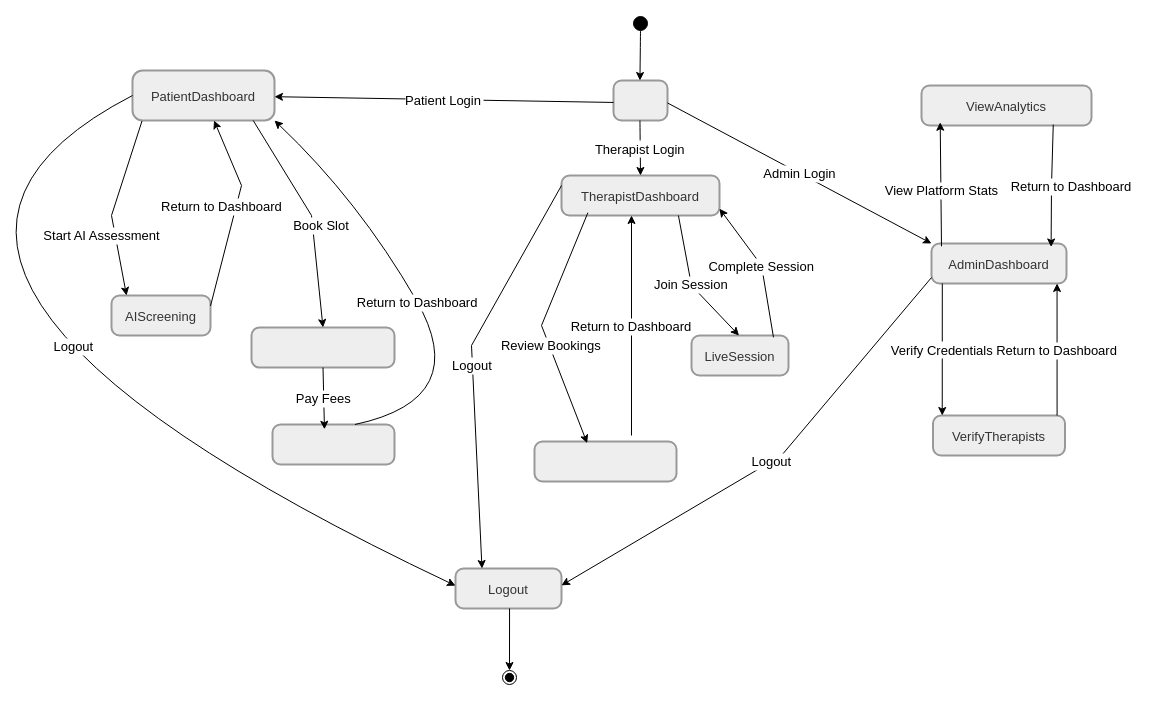
This 1150x701 diagram has some shape labels left out. Here are the shapes that lost their labels. From the top down, the centre of each, then its label:
At pixel 640 100: "Login".
At pixel 322 347: "BookAppointment".
At pixel 333 444: "EsewaPayment".
At pixel 605 461: "ManageBookings".
